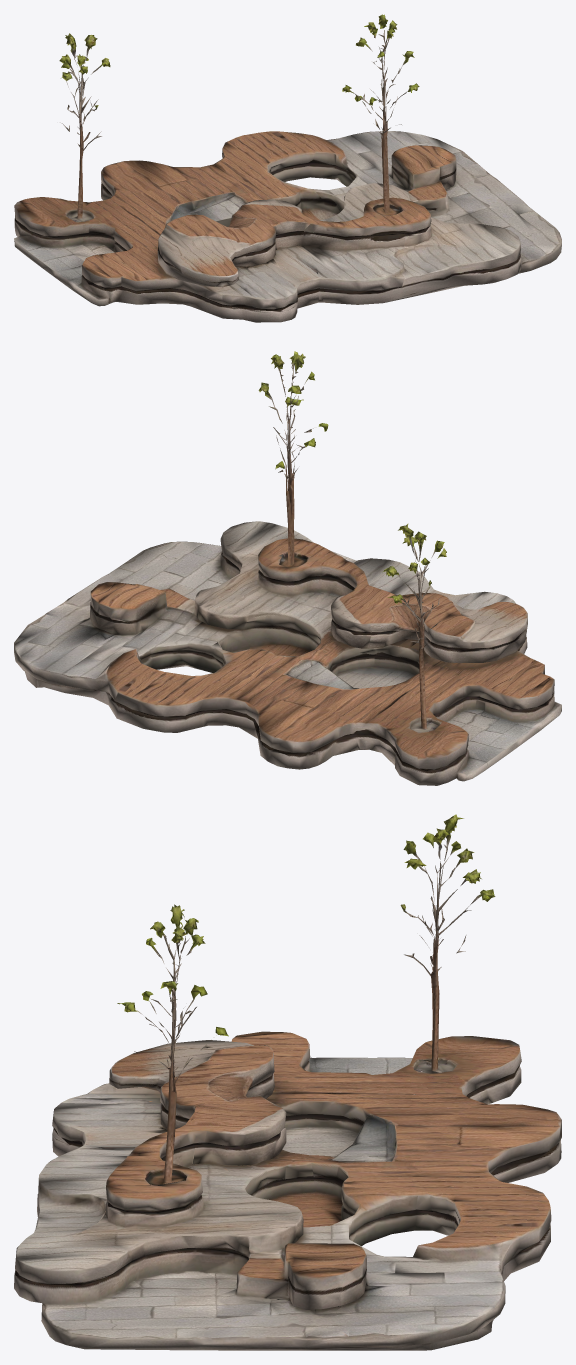
Rendered from deckisle_lod1.glb.
The picture shows the model from 3 angles, top to bottom: view 1: azimuth 30°, elevation 25°; view 2: azimuth 150°, elevation 25°; view 3: azimuth 270°, elevation 25°; orthographic projection. The views are drawn at different scales.
Visible parts, largest first — view 1: tripo_node_9644e7e2-6c19-4288-a1f3-ad5e427e5658; view 2: tripo_node_9644e7e2-6c19-4288-a1f3-ad5e427e5658; view 3: tripo_node_9644e7e2-6c19-4288-a1f3-ad5e427e5658.
Boxes of the visible parts, box(x1,y1,x2,y2) form: tripo_node_9644e7e2-6c19-4288-a1f3-ad5e427e5658: box(14, 14, 561, 322); tripo_node_9644e7e2-6c19-4288-a1f3-ad5e427e5658: box(14, 351, 561, 785); tripo_node_9644e7e2-6c19-4288-a1f3-ad5e427e5658: box(14, 814, 561, 1350).
Size of the model in its own units: 0.9088 by 0.4993 by 0.7257.
Materials: 1 (1 with a texture image).
